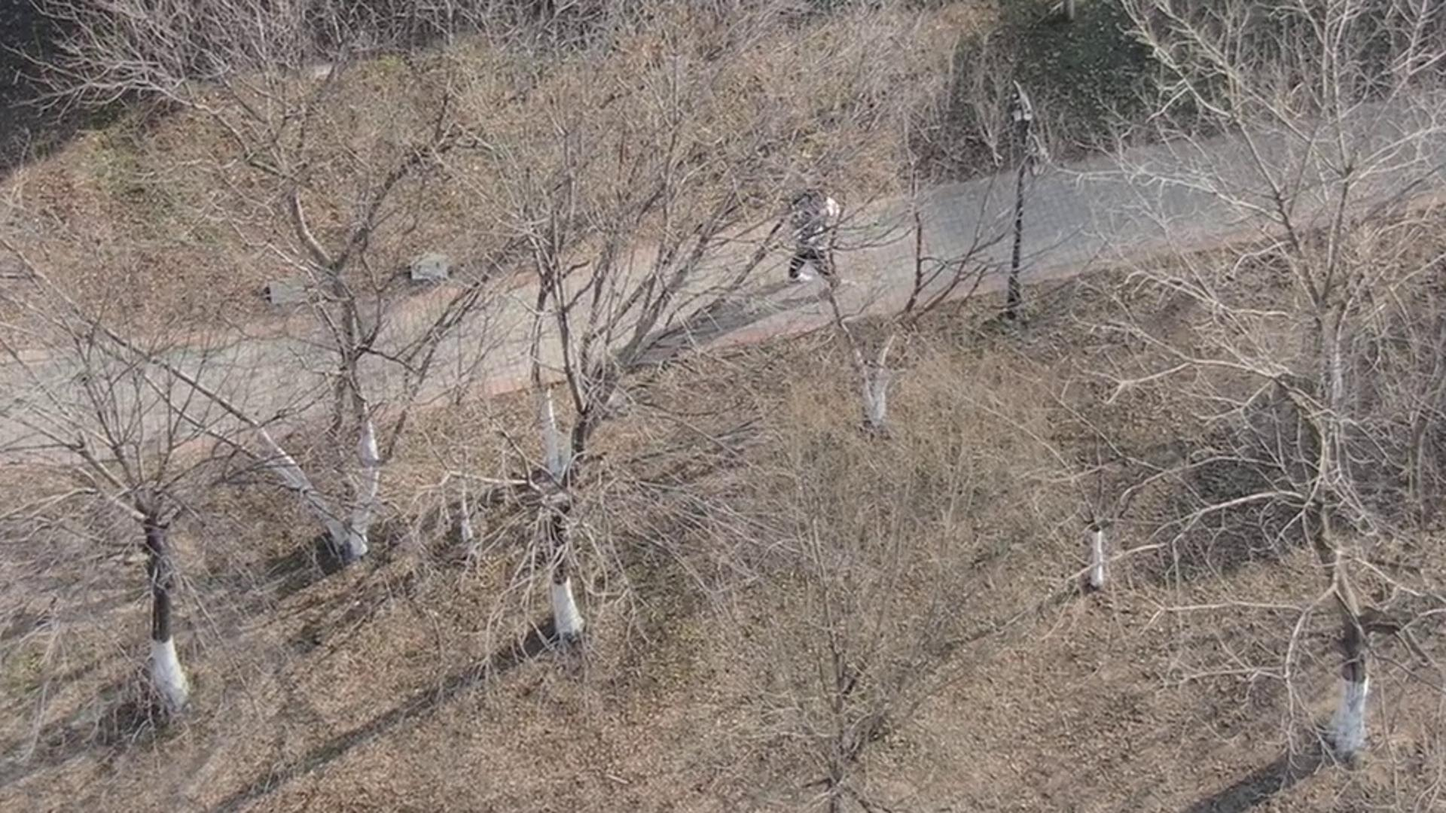human: (763, 197, 827, 308)
